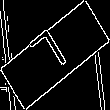L_SE: (32, 26, 78, 84)
